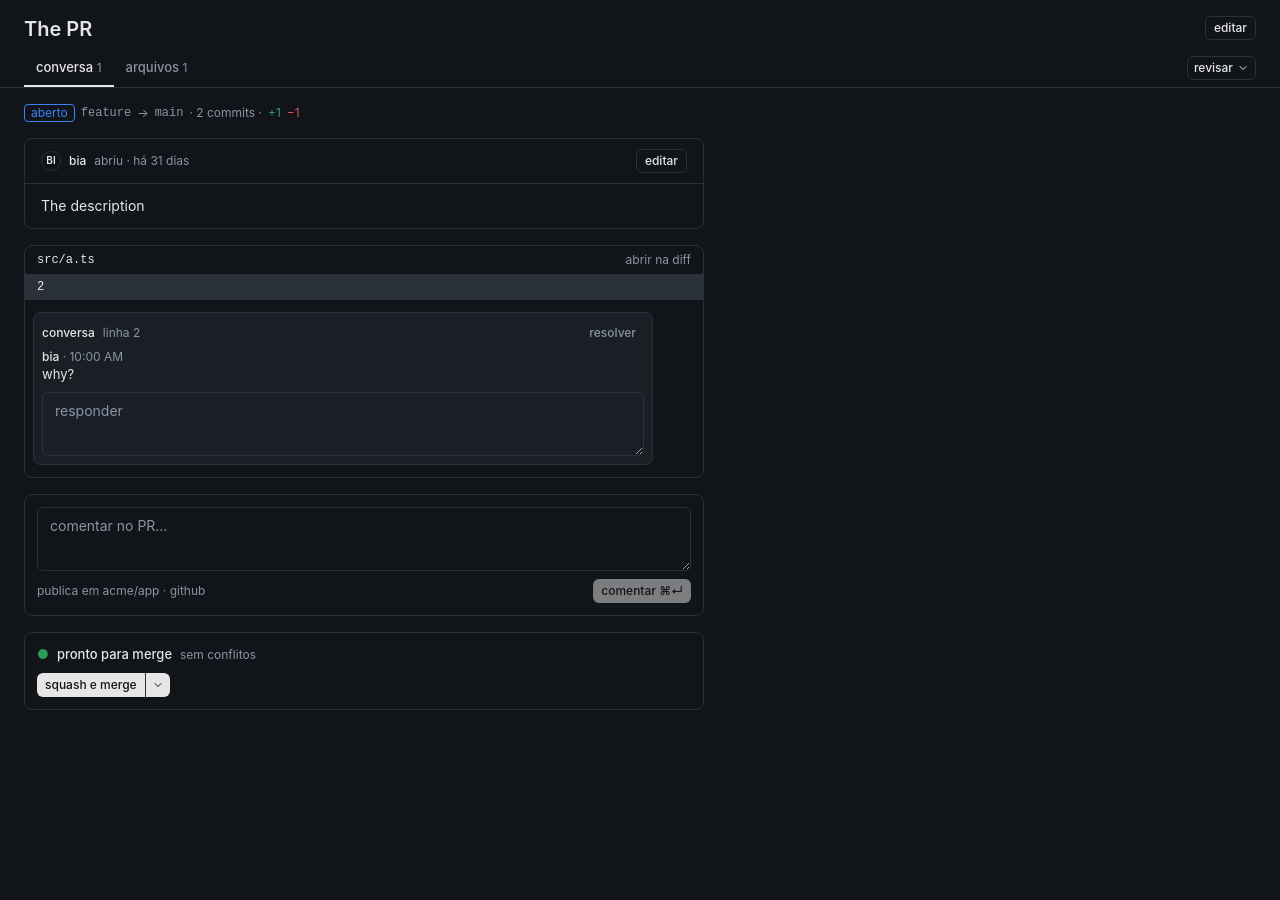
a 409 says the PR changed, reads it again and keeps the draft in the field (#758)
Expected: the heading "The PR" is shown, x1=24 y1=17 x2=92 y2=41
Click the button "editar" in the row of "The PR" at (1230, 28), box x1=1205 y1=16 x2=1256 y2=40
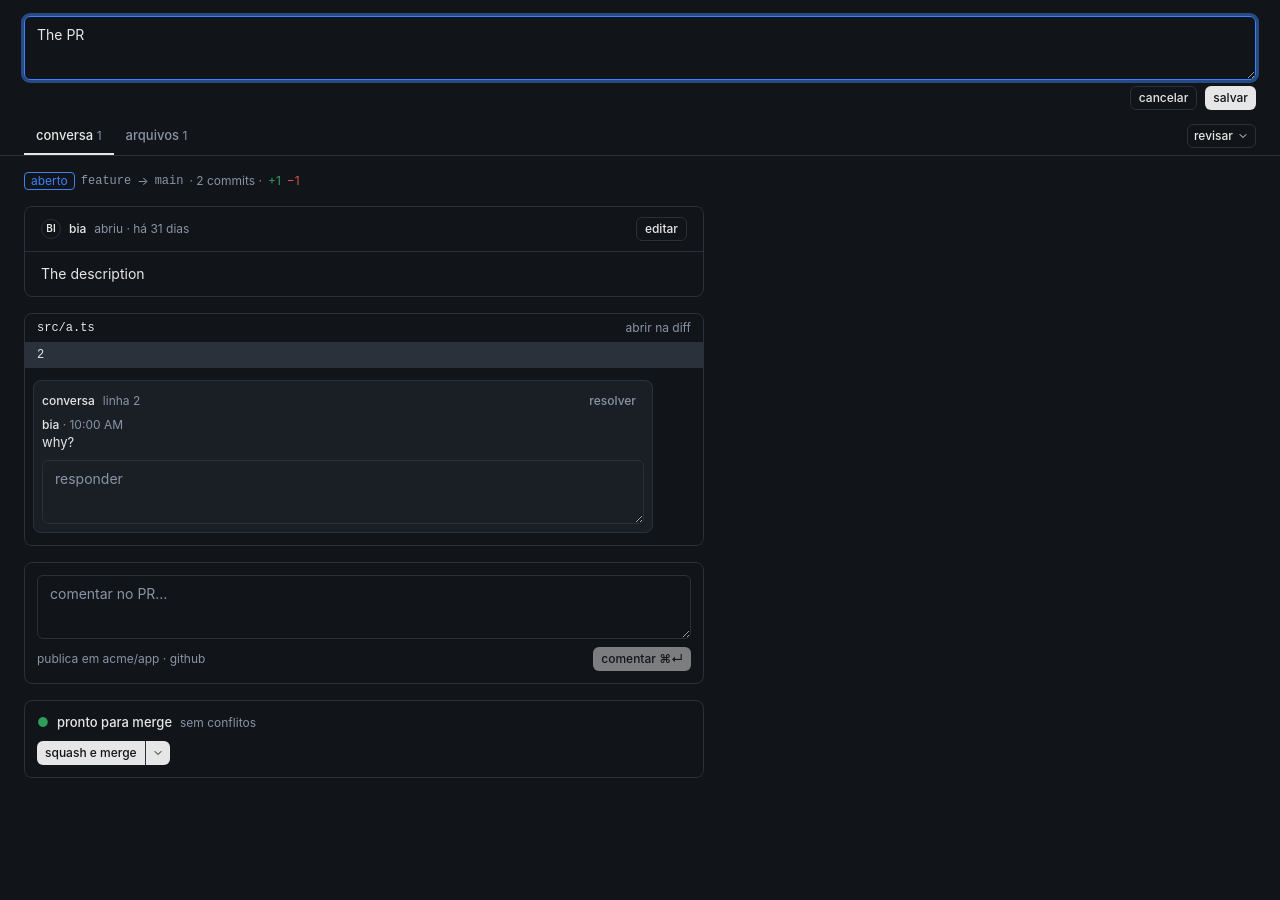
Type " again" into the text box named "título" at (640, 48), box x1=24 y1=16 x2=1256 y2=80
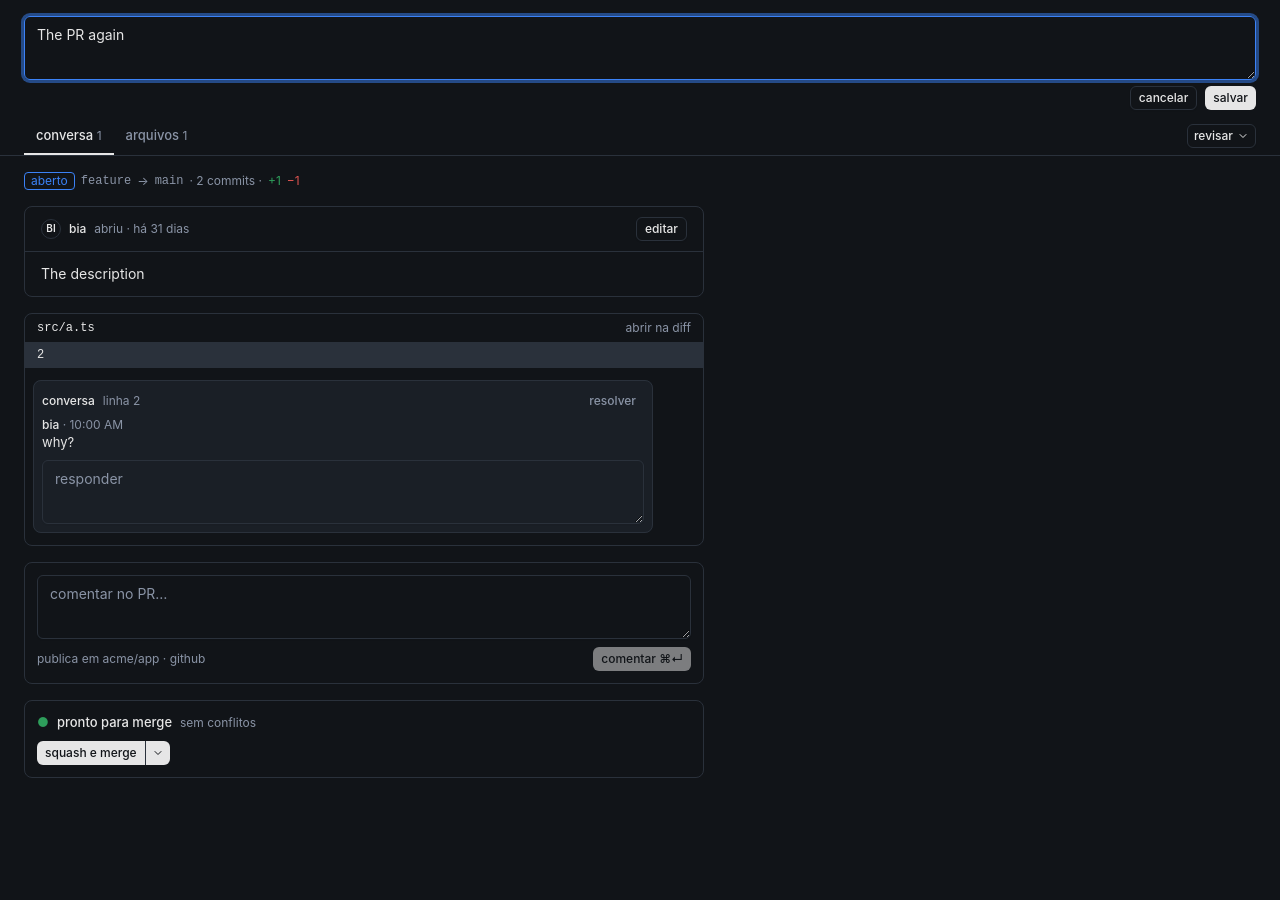
Click the button "salvar" at (1231, 98), box x1=1205 y1=86 x2=1256 y2=110
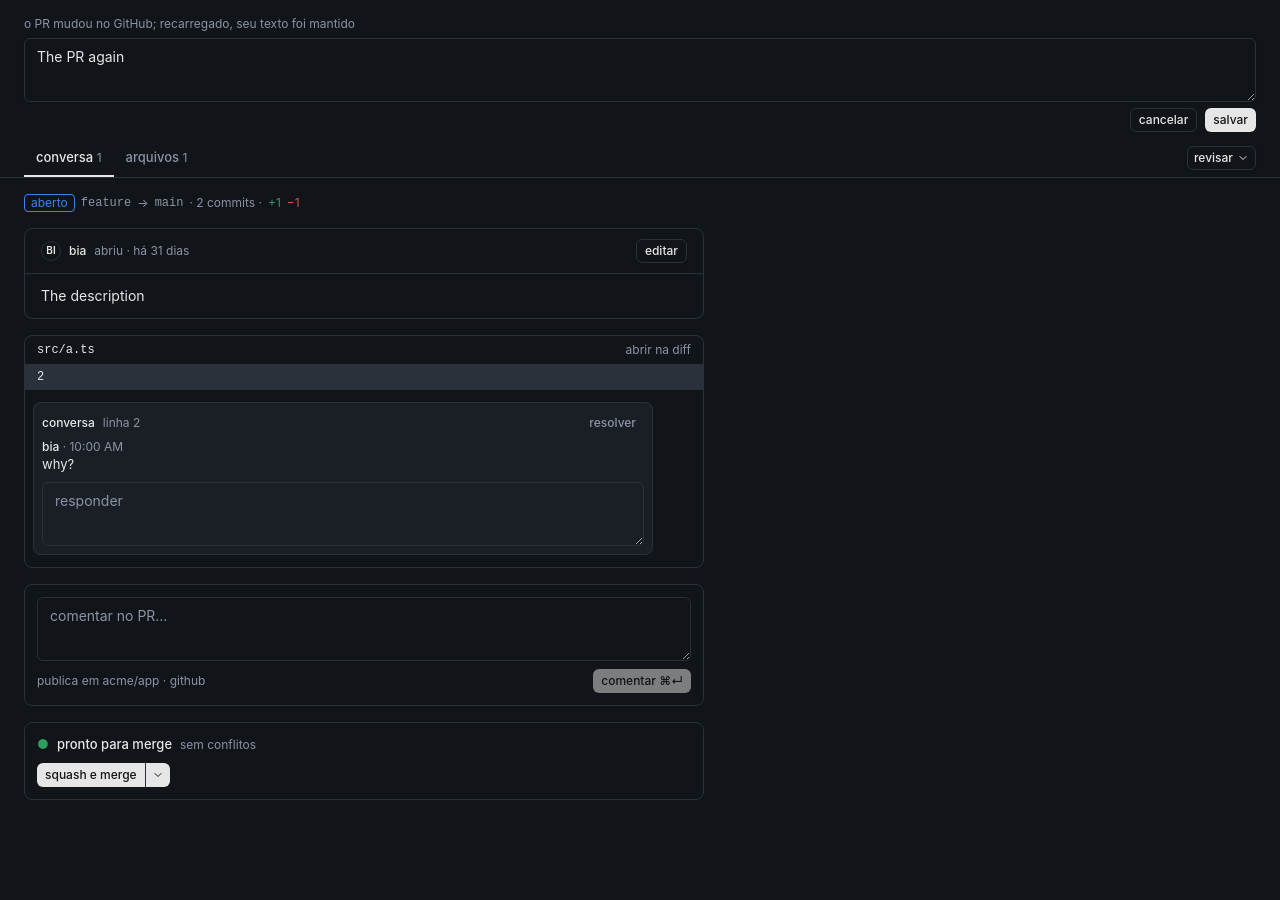
Expected: the text box named "título" holds "The PR again", x1=24 y1=38 x2=1256 y2=102
Expected: the text "o PR mudou no GitHub; recarregado, seu texto foi mantido" is shown, x1=24 y1=16 x2=355 y2=31
